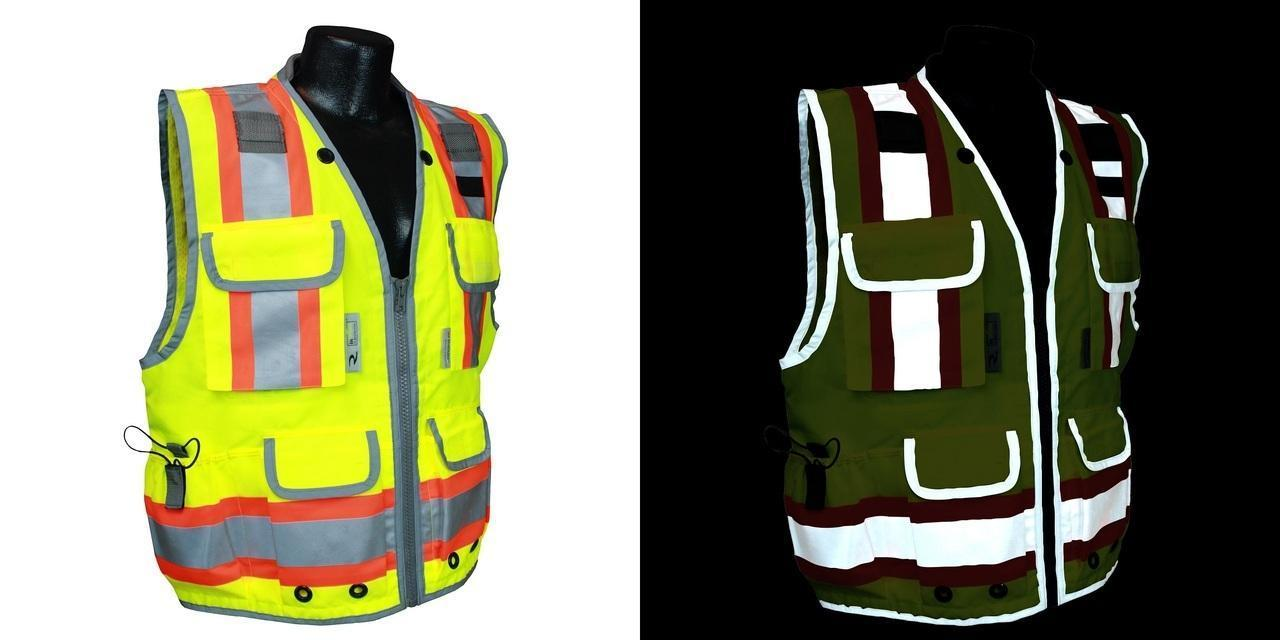vest: (141, 60, 506, 625)
